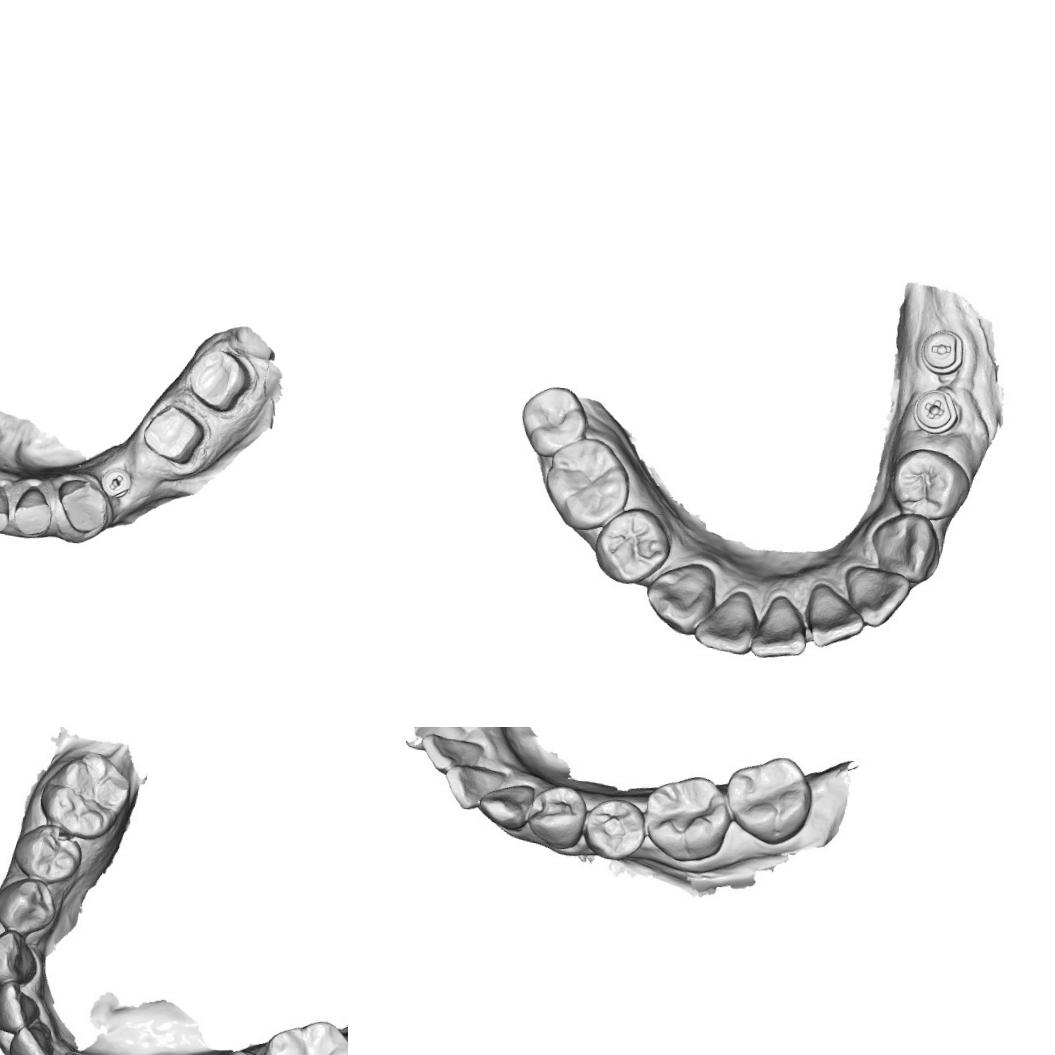canine: (865, 507, 946, 586), (644, 552, 714, 630), (55, 474, 112, 534), (479, 779, 539, 834), (0, 932, 37, 986)
crown: (180, 344, 256, 414), (137, 402, 210, 467)
implant_minus: (916, 326, 967, 375), (98, 466, 136, 497)
implant_plus: (910, 384, 962, 438)
incisor: (691, 580, 762, 655), (838, 560, 912, 628), (747, 588, 812, 663), (801, 583, 868, 652), (444, 758, 511, 818), (422, 729, 486, 776), (8, 480, 56, 538), (0, 979, 43, 1037), (9, 1015, 53, 1055), (0, 481, 11, 535)
molar: (540, 433, 637, 529), (44, 746, 133, 840), (641, 773, 731, 864), (723, 750, 810, 837), (523, 384, 588, 458), (262, 1015, 348, 1055)
premolar: (888, 446, 967, 524), (594, 505, 672, 583), (582, 796, 648, 860), (531, 782, 590, 850), (14, 824, 76, 884), (0, 876, 56, 935)
